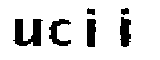c: (48, 17, 72, 48)
i: (116, 5, 137, 52), (83, 3, 100, 52)
u: (9, 13, 44, 49)
